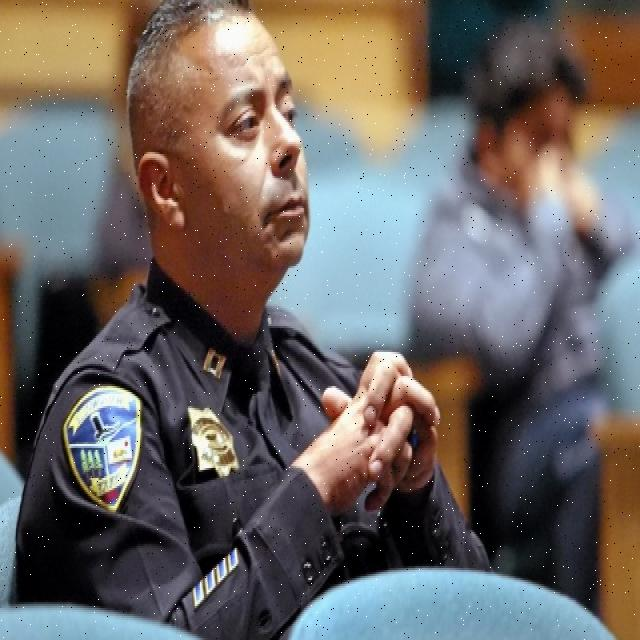police: (15, 0, 464, 640)
